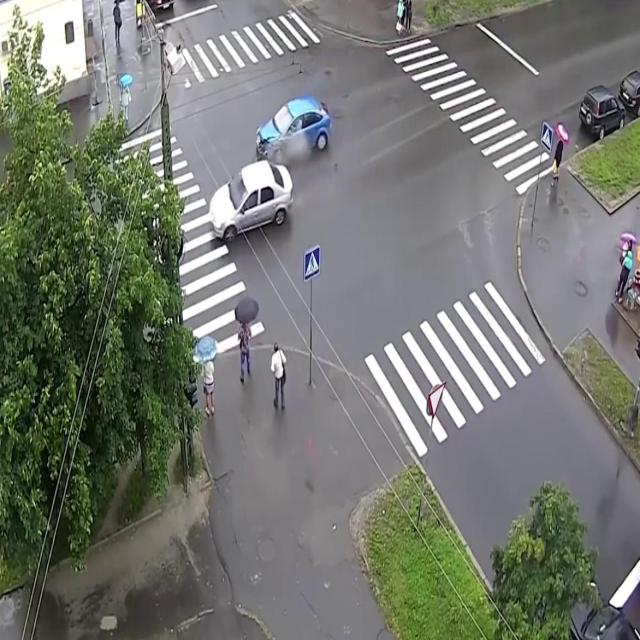accident: (208, 81, 335, 243)
